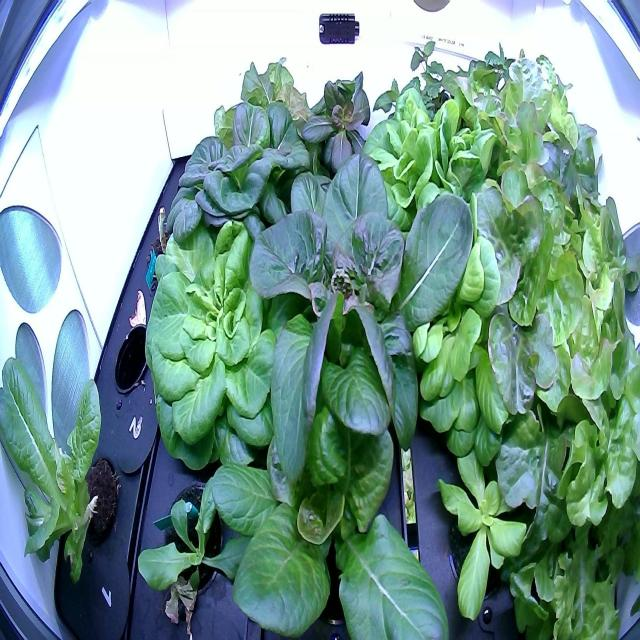Ready: (246, 137, 493, 497), (136, 204, 332, 483), (156, 87, 332, 279), (354, 78, 512, 288)
empty_pod: (109, 312, 160, 406)
young: (194, 345, 453, 639), (0, 345, 125, 595), (428, 412, 549, 631), (131, 452, 276, 629), (295, 52, 385, 207)
